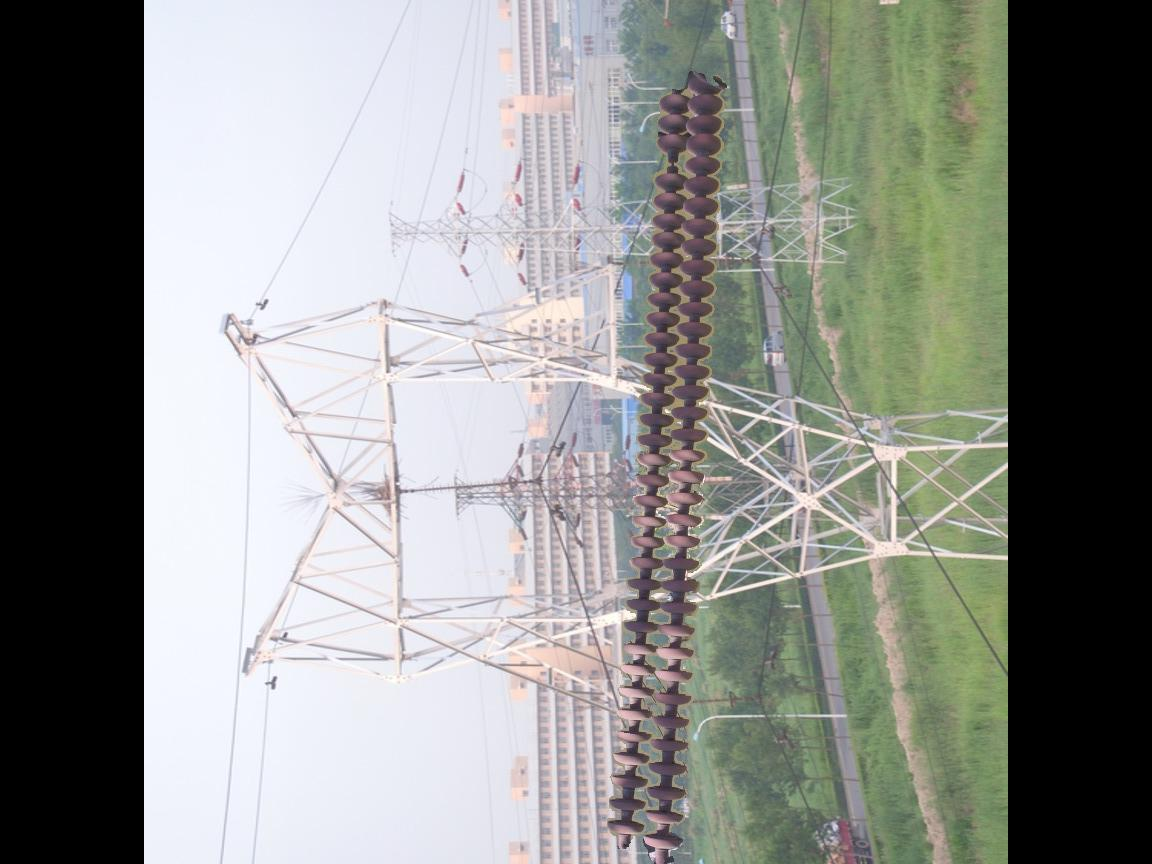insulator: (604, 76, 732, 863)
insulator_stringdrop: (651, 129, 692, 192)
